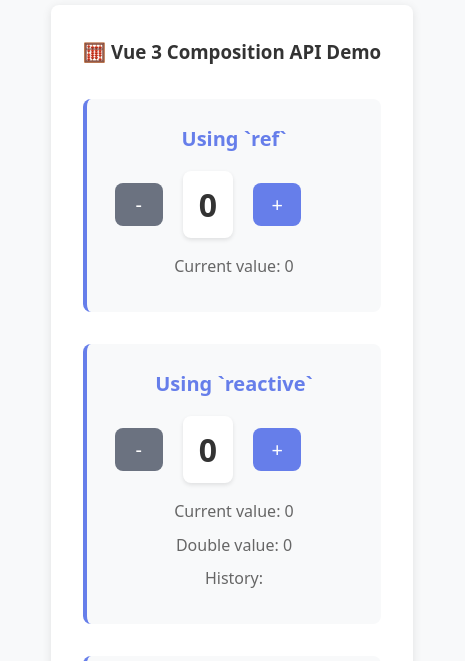
Test: Counter.vue › increments ref counter when + button is clicked
Click to increment
Step 1. Click the button "+" below "Using `ref`" → coordinates (277, 204), box [253,183,301,226]
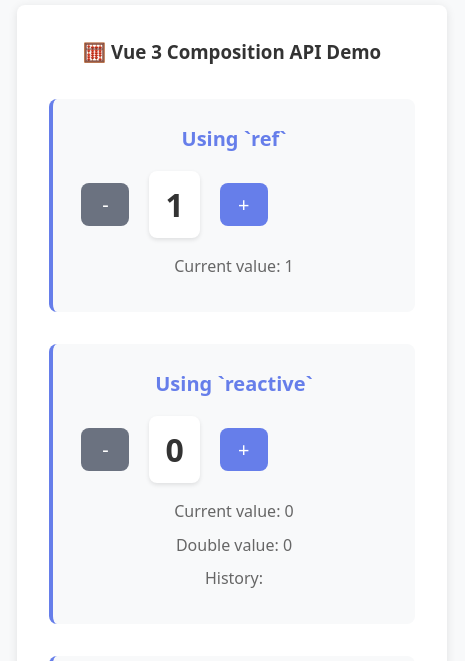
Expected: the text with class "count" reads "1", [165,183,184,226]
